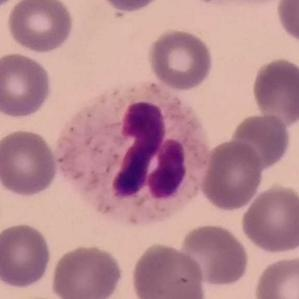Neutrophil: (52, 86, 212, 229)
RBC: (176, 221, 250, 288), (199, 138, 265, 212), (238, 182, 299, 256), (146, 27, 215, 92), (129, 241, 206, 299), (48, 241, 124, 299), (0, 127, 60, 198), (4, 0, 76, 55), (227, 112, 292, 172), (0, 51, 54, 120), (0, 221, 54, 290), (249, 56, 299, 127), (251, 253, 299, 299), (274, 0, 299, 46), (95, 0, 165, 14), (187, 0, 284, 9)
